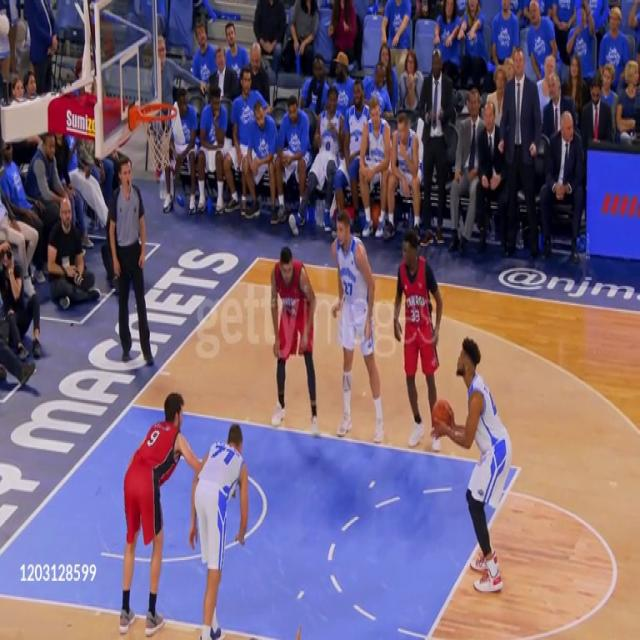ball: (432, 398, 454, 438)
